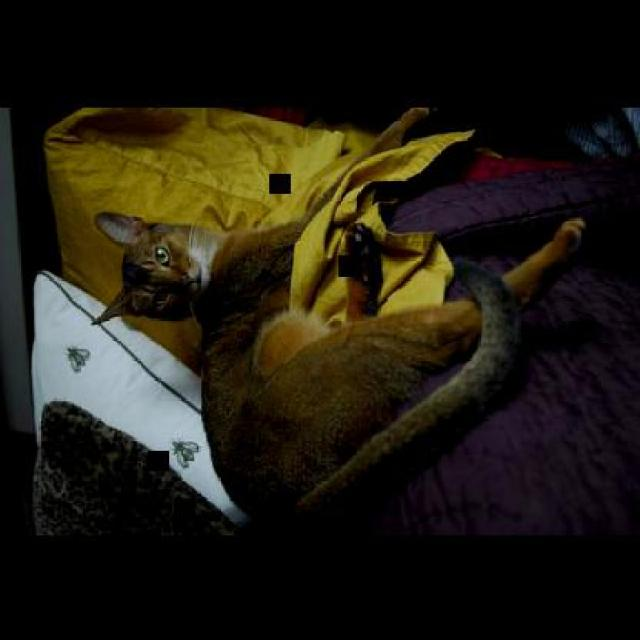unauthorized: (89, 208, 588, 522)
